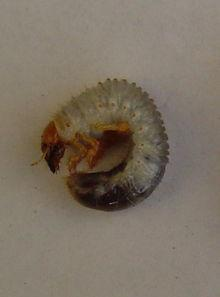grub: (30, 73, 183, 230)
